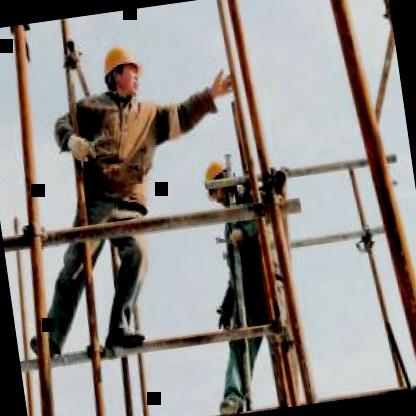helmet: (95, 31, 148, 106), (195, 148, 245, 211)
